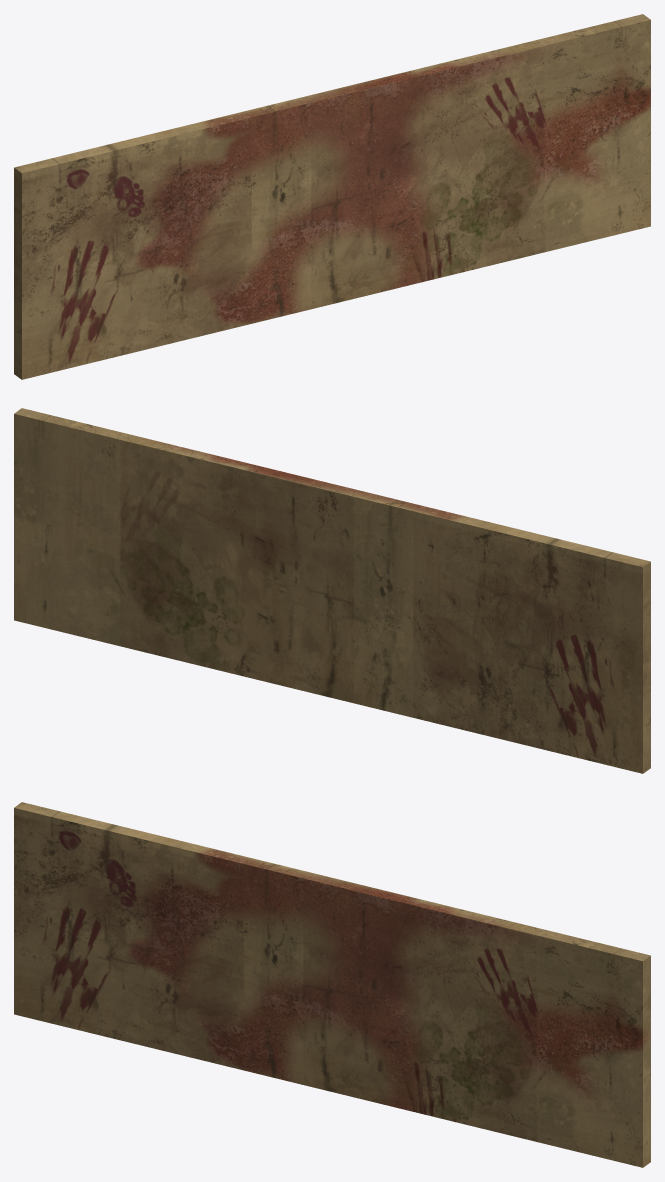
Rendered from wall_long.fbx.
The picture shows the model from 3 angles, top to bottom: view 1: azimuth 30°, elevation 25°; view 2: azimuth 150°, elevation 25°; view 3: azimuth 330°, elevation 25°; orthographic projection.
Parts seen in each view (by area): view 1: Wall_Long; view 2: Wall_Long; view 3: Wall_Long.
Boxes of the visible parts, x1=… form: Wall_Long: x1=14, y1=14, x2=650, y2=379; Wall_Long: x1=14, y1=408, x2=650, y2=773; Wall_Long: x1=14, y1=802, x2=650, y2=1167.
Size of the model in its own units: 10.09 by 3.17 by 0.2195.
